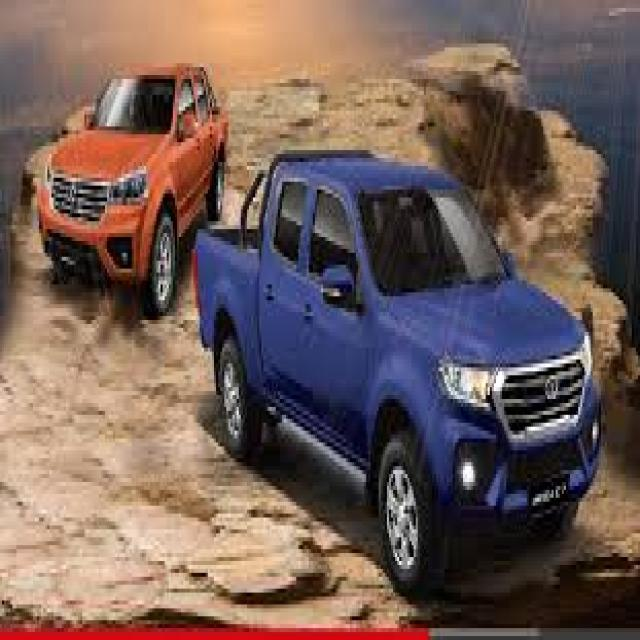CMT: (201, 149, 603, 596), (34, 62, 229, 300)
